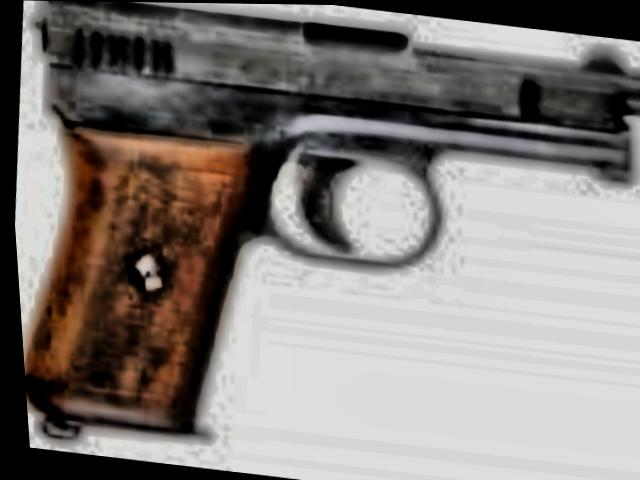pistol: (0, 0, 640, 473)
